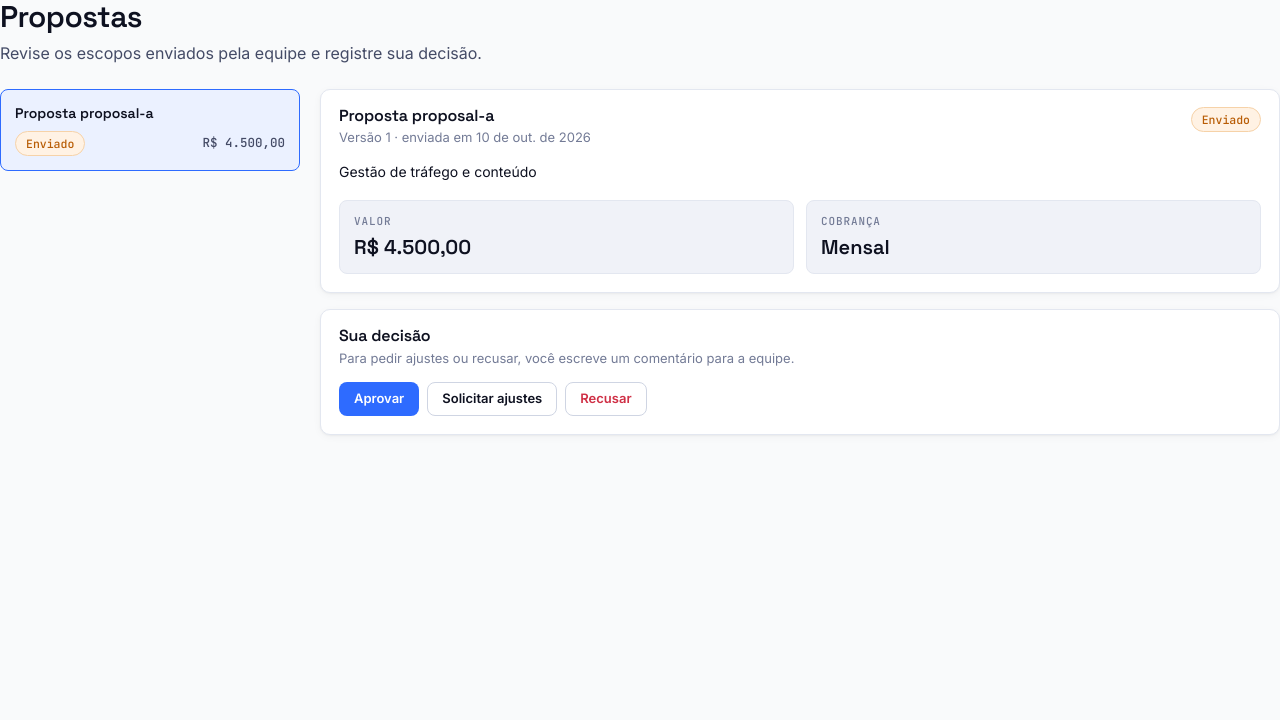
Test: PortalProposalsPage › pede confirmação antes de aprovar e não envia se a pessoa cancelar
Step 1. Click the button "Aprovar" → (379, 399), box [339,382,419,416]
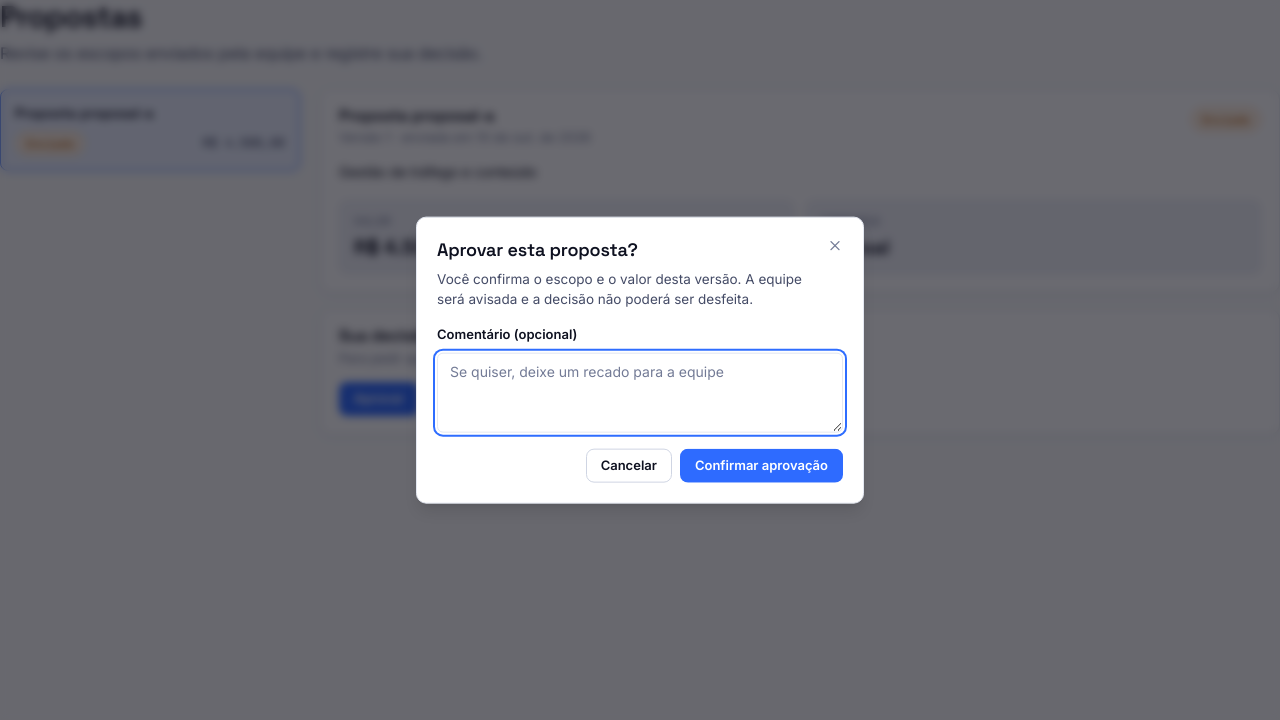
Now the text "Aprovar esta proposta?" is shown, box [437,238,638,261]
Step 2. Click the button "Cancelar" → (629, 465), box [586,448,672,482]
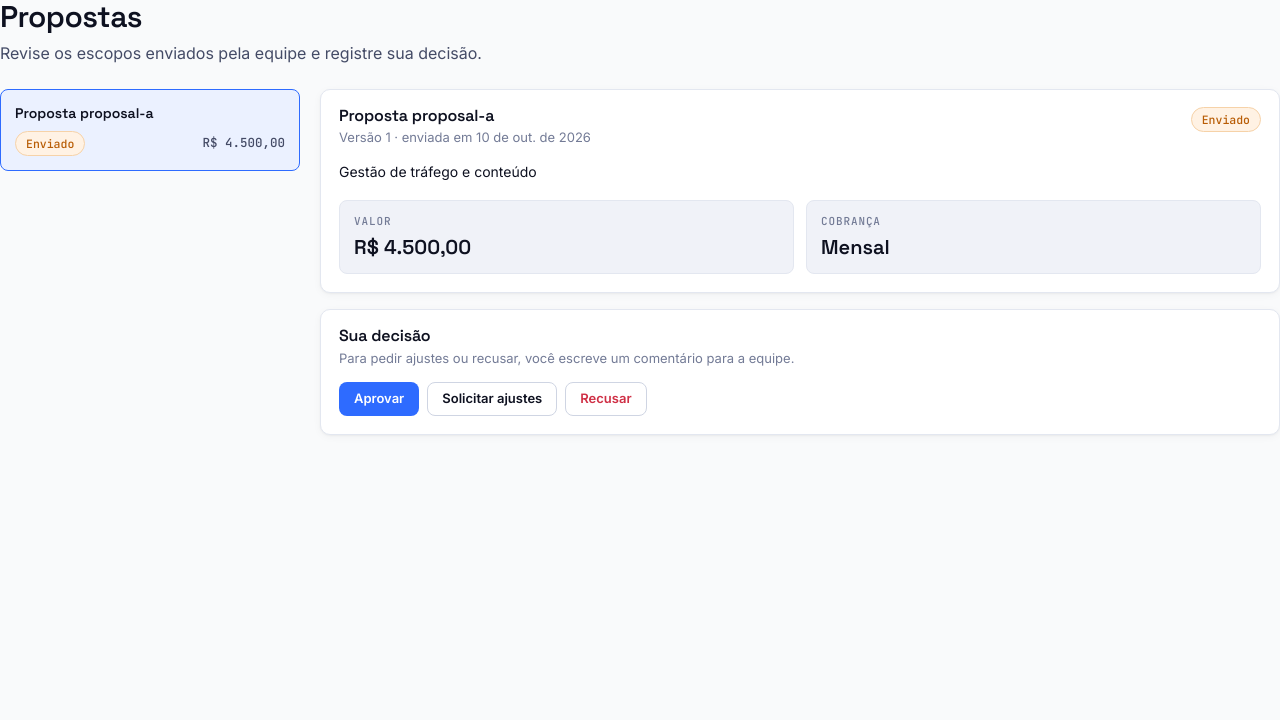
Now the text "Aprovar esta proposta?" is gone
